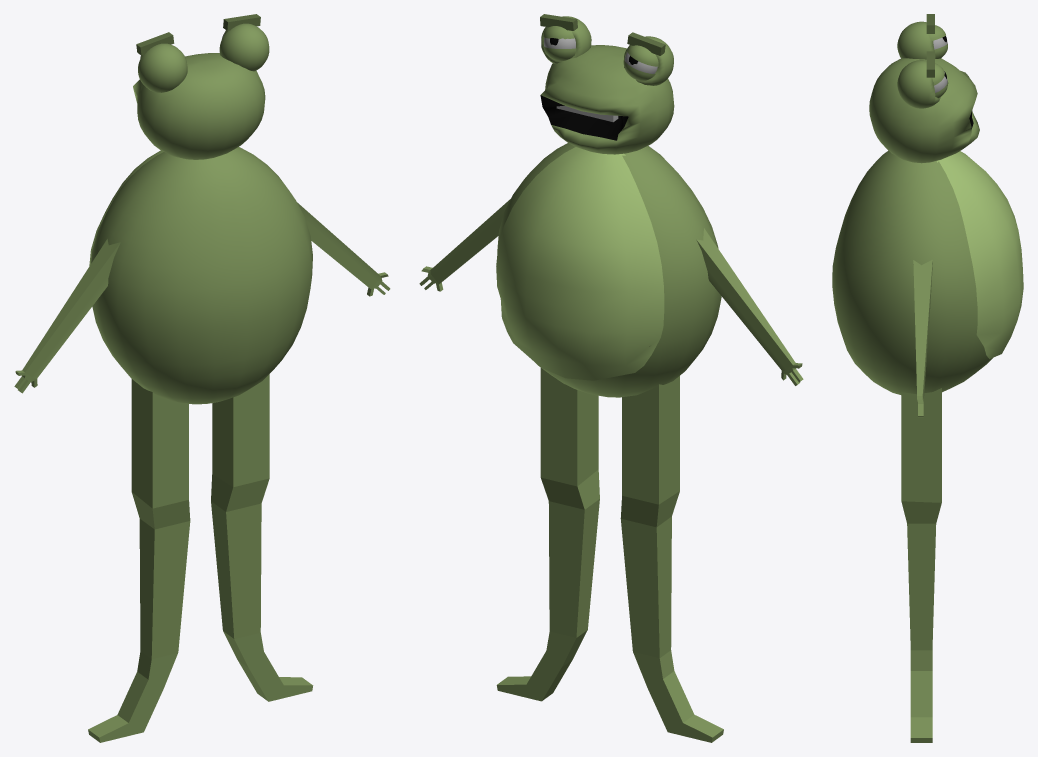
The model's file is frog-mascot-01.fbx.
3 views of the same model, side by side, from view 1: azimuth 30°, elevation 25°; view 2: azimuth 150°, elevation 25°; view 3: azimuth 270°, elevation 25° (orthographic). The views are drawn at different scales.
Parts seen in each view (by area): view 1: pSphere2, pCube12, pCube11, pSphere1, pCube14, pCube13, pSphere8, pSphere3; view 2: pSphere13, pCube12, pCube11, pSphere2, pSphere1, pCube14, pCube13, pSphere8, pSphere3; view 3: pSphere2, pCube11, pSphere13, pSphere1, pCube13, pSphere3, pSphere8.
Part boxes in pixels (<box>): pSphere2: <box>91,147,312,404</box>; pCube12: <box>88,379,190,742</box>; pCube11: <box>211,374,313,701</box>; pSphere1: <box>133,53,265,159</box>; pCube14: <box>14,239,120,393</box>; pCube13: <box>297,202,390,296</box>; pSphere8: <box>138,43,187,92</box>; pSphere3: <box>219,23,269,71</box>; pSphere13: <box>496,147,664,380</box>; pCube12: <box>620,376,723,742</box>; pCube11: <box>496,368,599,701</box>; pSphere2: <box>497,143,721,397</box>; pSphere1: <box>540,45,674,154</box>; pCube14: <box>696,228,803,385</box>; pCube13: <box>419,199,510,291</box>; pSphere8: <box>623,36,673,85</box>; pSphere3: <box>541,16,591,63</box>; pSphere2: <box>832,150,992,394</box>; pCube11: <box>901,388,941,742</box>; pSphere13: <box>937,151,1023,358</box>; pSphere1: <box>869,58,979,163</box>; pCube13: <box>913,260,932,417</box>; pSphere3: <box>897,60,940,108</box>; pSphere8: <box>897,21,935,59</box>.
Bounding box in the file's own units: 1.19 × 2.07 × 0.5474.
